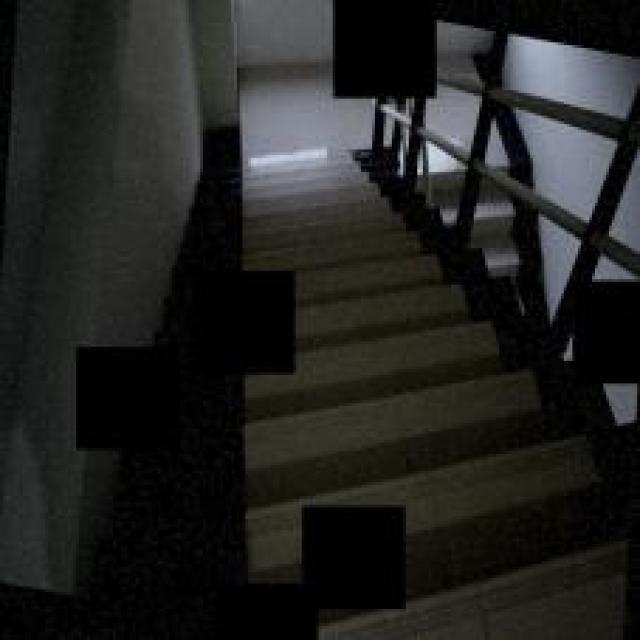downstair: (307, 240, 485, 479)
